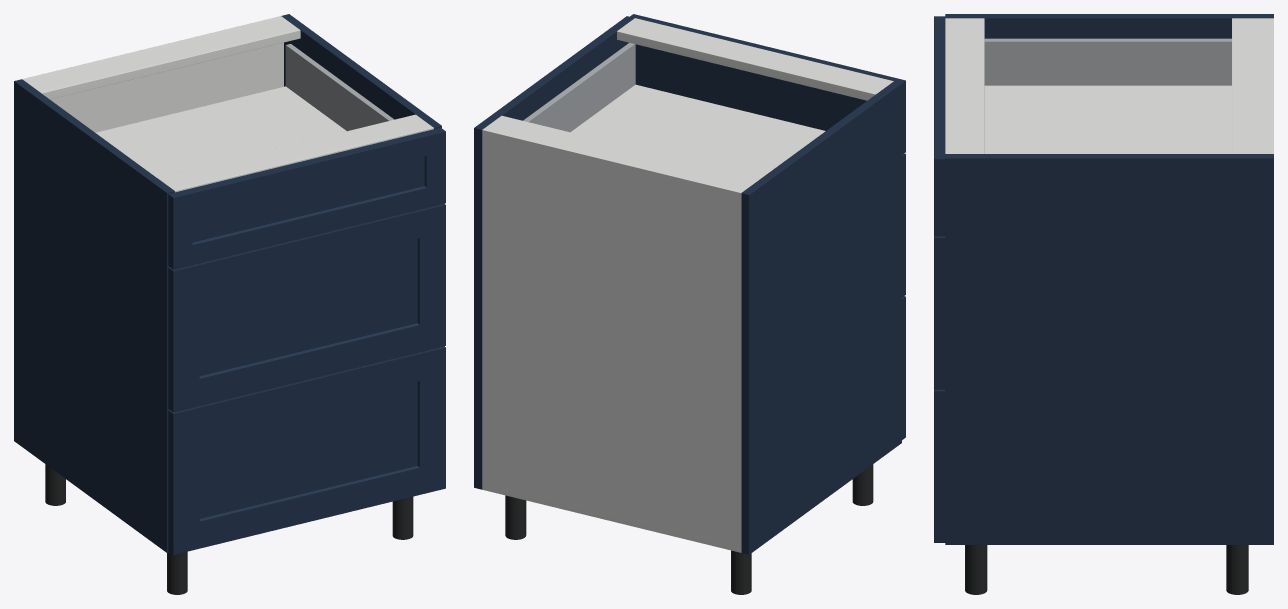
Rendered from oppein-pb-bss-3db24.glb.
3 views of the same model, side by side, from view 1: azimuth 30°, elevation 25°; view 2: azimuth 150°, elevation 25°; view 3: azimuth 270°, elevation 25° (orthographic). The views are drawn at different scales.
Visible parts, largest first — view 1: Cabinet side, Drawer front.001, Drawer front, Drawer front.002, Drawer floor.002, Cabinet back, Top support rail, Top support rail.001, Drawer side.005, Cabinet side.001, Adjustable foot.003, Adjustable foot.001 (+1 smaller); view 2: Cabinet back, Cabinet side, Drawer floor.002, Drawer front.002, Top support rail.001, Cabinet side.001, Top support rail, Drawer side.005, Cabinet bottom, Adjustable foot.002, Adjustable foot, Adjustable foot.001 (+2 smaller); view 3: Cabinet side.001, Drawer floor.002, Drawer side.004, Cabinet side, Top support rail.001, Top support rail, Drawer front.002, Drawer front.001, Drawer front, Adjustable foot.002, Adjustable foot.003, Cabinet back.
Boxes of the visible parts, <box> form: Cabinet side: <box>14,79,174,552</box>; Drawer front.001: <box>168,203,445,412</box>; Drawer front: <box>168,346,445,554</box>; Drawer front.002: <box>168,127,445,269</box>; Drawer floor.002: <box>95,86,346,177</box>; Cabinet back: <box>22,16,283,132</box>; Top support rail: <box>24,18,300,99</box>; Top support rail.001: <box>157,114,433,192</box>; Drawer side.005: <box>285,44,393,131</box>; Cabinet side.001: <box>281,14,441,128</box>; Adjustable foot.003: <box>392,496,413,539</box>; Adjustable foot.001: <box>167,551,187,594</box>; Cabinet back: <box>482,127,743,552</box>; Cabinet side: <box>741,81,901,554</box>; Drawer floor.002: <box>570,84,825,178</box>; Drawer front.002: <box>630,14,905,154</box>; Top support rail.001: <box>617,18,893,100</box>; Cabinet side.001: <box>474,16,634,489</box>; Top support rail: <box>486,115,759,191</box>; Drawer side.005: <box>523,43,635,132</box>; Cabinet bottom: <box>482,481,740,552</box>; Adjustable foot.002: <box>505,495,526,539</box>; Adjustable foot: <box>731,550,751,594</box>; Adjustable foot.001: <box>852,464,873,505</box>; Cabinet side.001: <box>945,154,1273,544</box>; Drawer floor.002: <box>984,85,1231,153</box>; Drawer side.004: <box>984,38,1231,85</box>; Cabinet side: <box>945,14,1273,38</box>; Top support rail.001: <box>945,18,984,153</box>; Top support rail: <box>1232,18,1267,153</box>; Drawer front.002: <box>934,16,945,236</box>; Drawer front.001: <box>934,236,945,389</box>; Drawer front: <box>934,389,945,542</box>; Adjustable foot.002: <box>1226,545,1248,594</box>; Adjustable foot.003: <box>965,545,987,594</box>; Cabinet back: <box>1267,18,1273,153</box>.
Size of the model in its own units: 0.6096 by 0.8763 by 0.6064.
